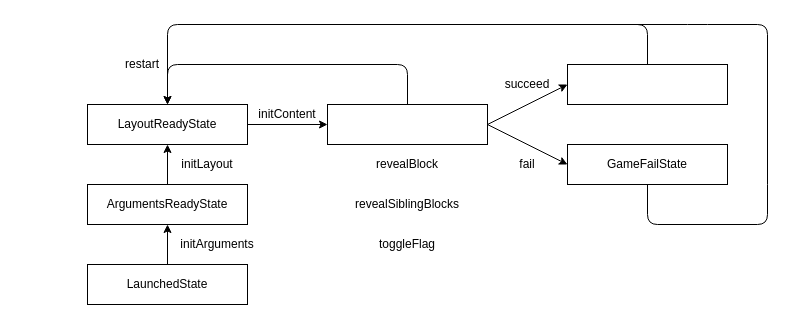
Some shapes in this 786 by 322 pixel diagram are drawn without their labels. Here are the shapes that lost their labels. From the top down, the centre of each, then its label:
point 647,84: GameSuccessState
point 407,124: GameReadyState
